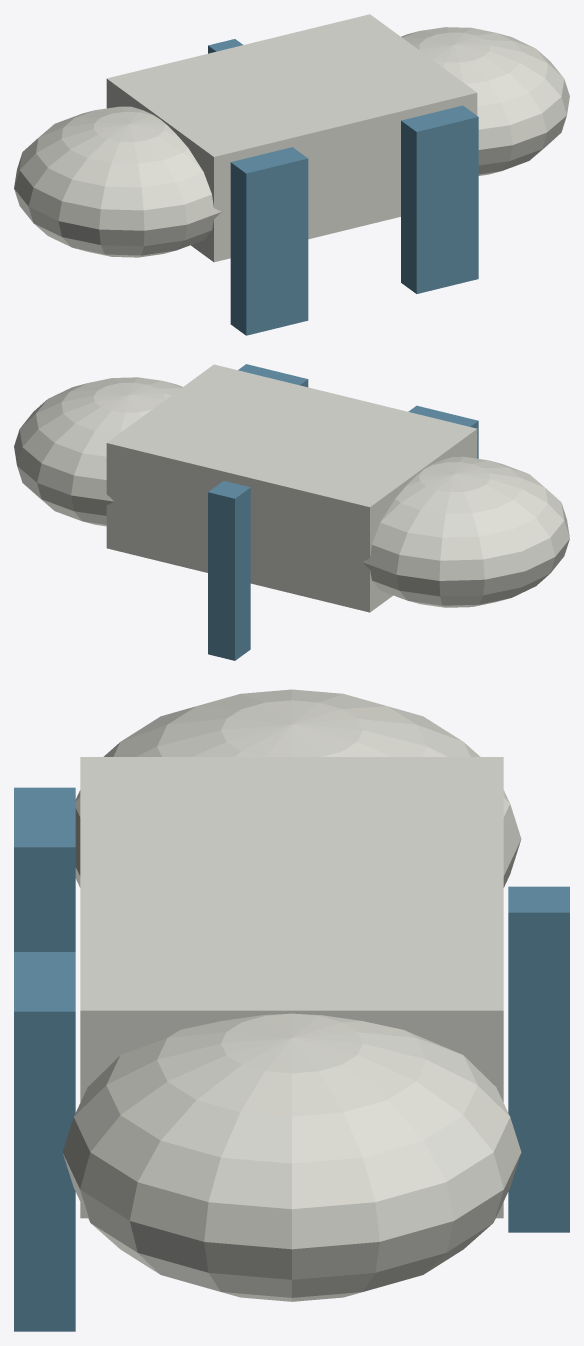
Rendered from american-football-stadium-kit-shoulder-pads-077313c6__22369.glb.
3 renders of one model, top to bottom at view 1: azimuth 30°, elevation 25°; view 2: azimuth 150°, elevation 25°; view 3: azimuth 270°, elevation 25°, orthographic. The views are drawn at different scales.
Parts seen in each view (by area): view 1: shoulder-pads; view 2: shoulder-pads; view 3: shoulder-pads.
Part boxes in pixels (<box>): shoulder-pads: <box>14,14,569,335</box>; shoulder-pads: <box>14,364,569,660</box>; shoulder-pads: <box>14,689,569,1331</box>.
Size of the model in its own units: 0.68 by 0.2115 by 0.315.
